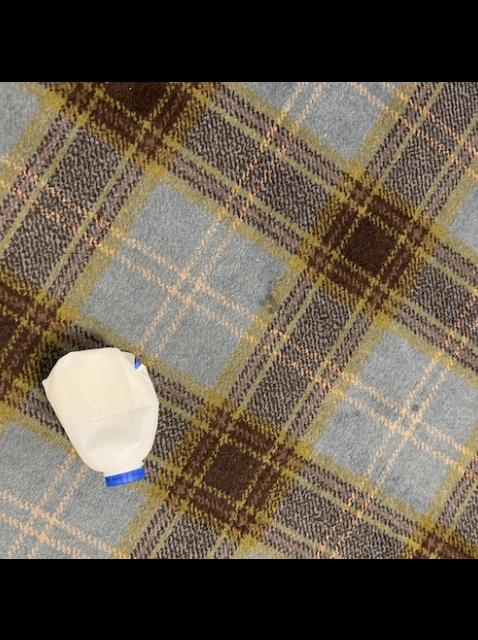plastic: (42, 346, 157, 485)
